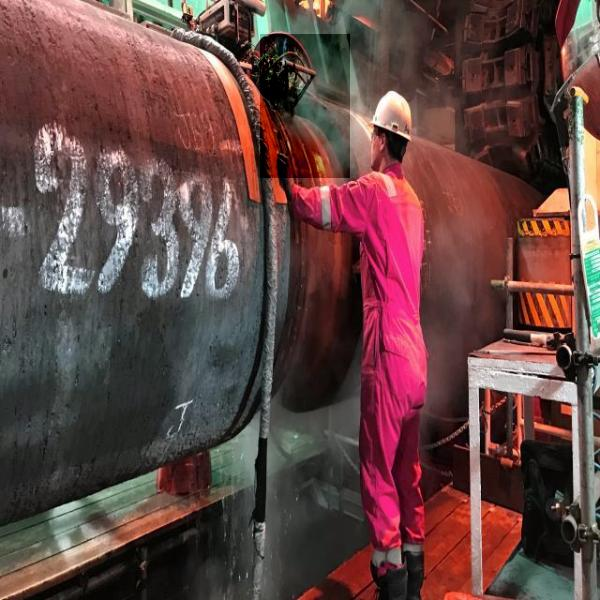gas: (260, 34, 350, 178)
